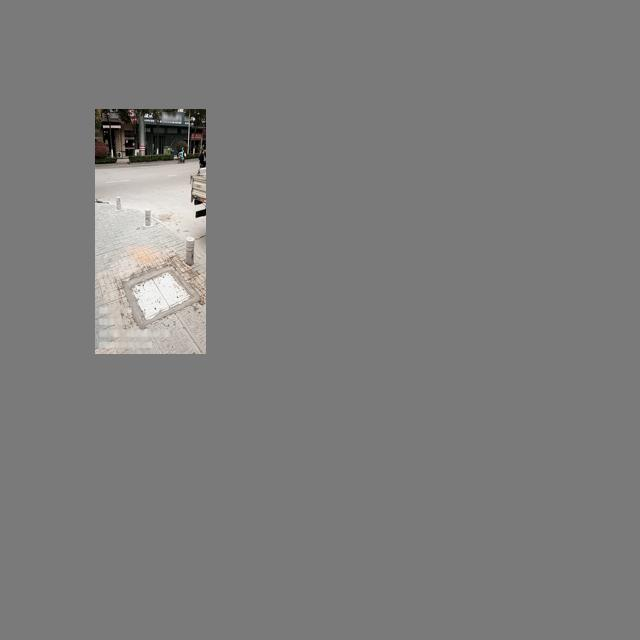good: (125, 269, 193, 319)
